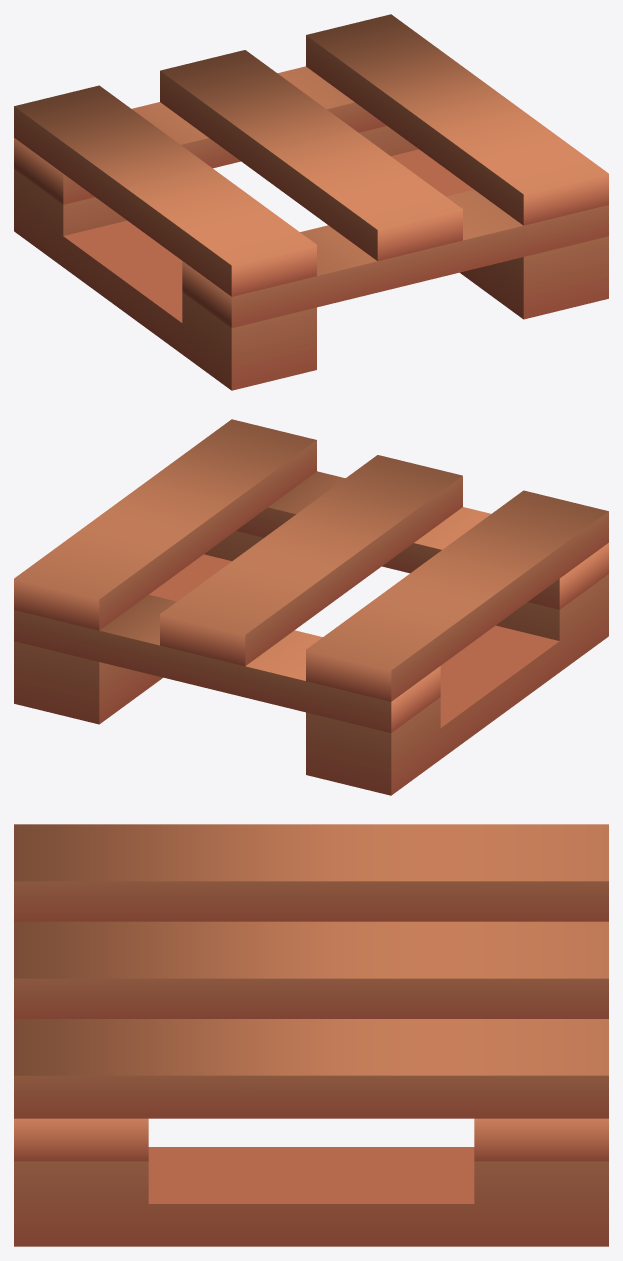
Rendered from prop-pallet.glb.
3 views of the same model, one above another, from view 1: azimuth 30°, elevation 25°; view 2: azimuth 150°, elevation 25°; view 3: azimuth 270°, elevation 25° (orthographic). The views are drawn at different scales.
Parts seen in each view (by area): view 1: pallet; view 2: pallet; view 3: pallet.
Boxes of the visible parts, x1=… form: pallet: x1=14, y1=14, x2=608, y2=390; pallet: x1=14, y1=419, x2=608, y2=795; pallet: x1=14, y1=824, x2=608, y2=1246.
Bounding box in the file's own units: 0.4229 × 0.134 × 0.4229.
1 material, 1 textured.
